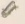microplastic: (2, 1, 21, 18)
